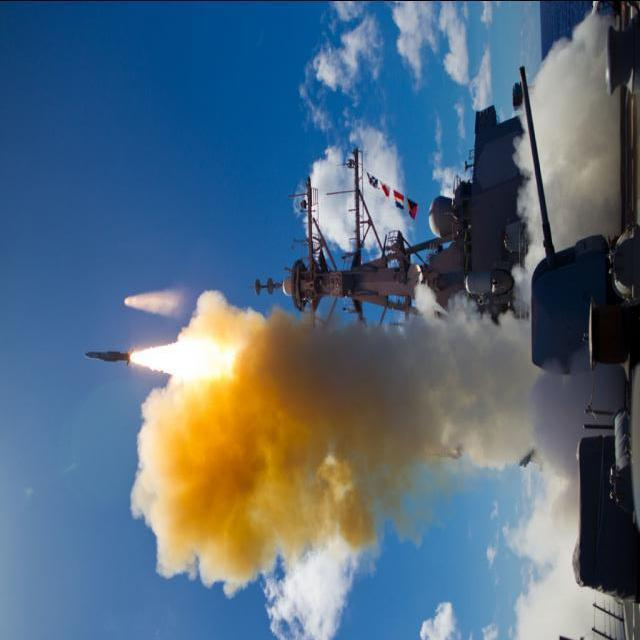missile: (81, 345, 136, 371)
